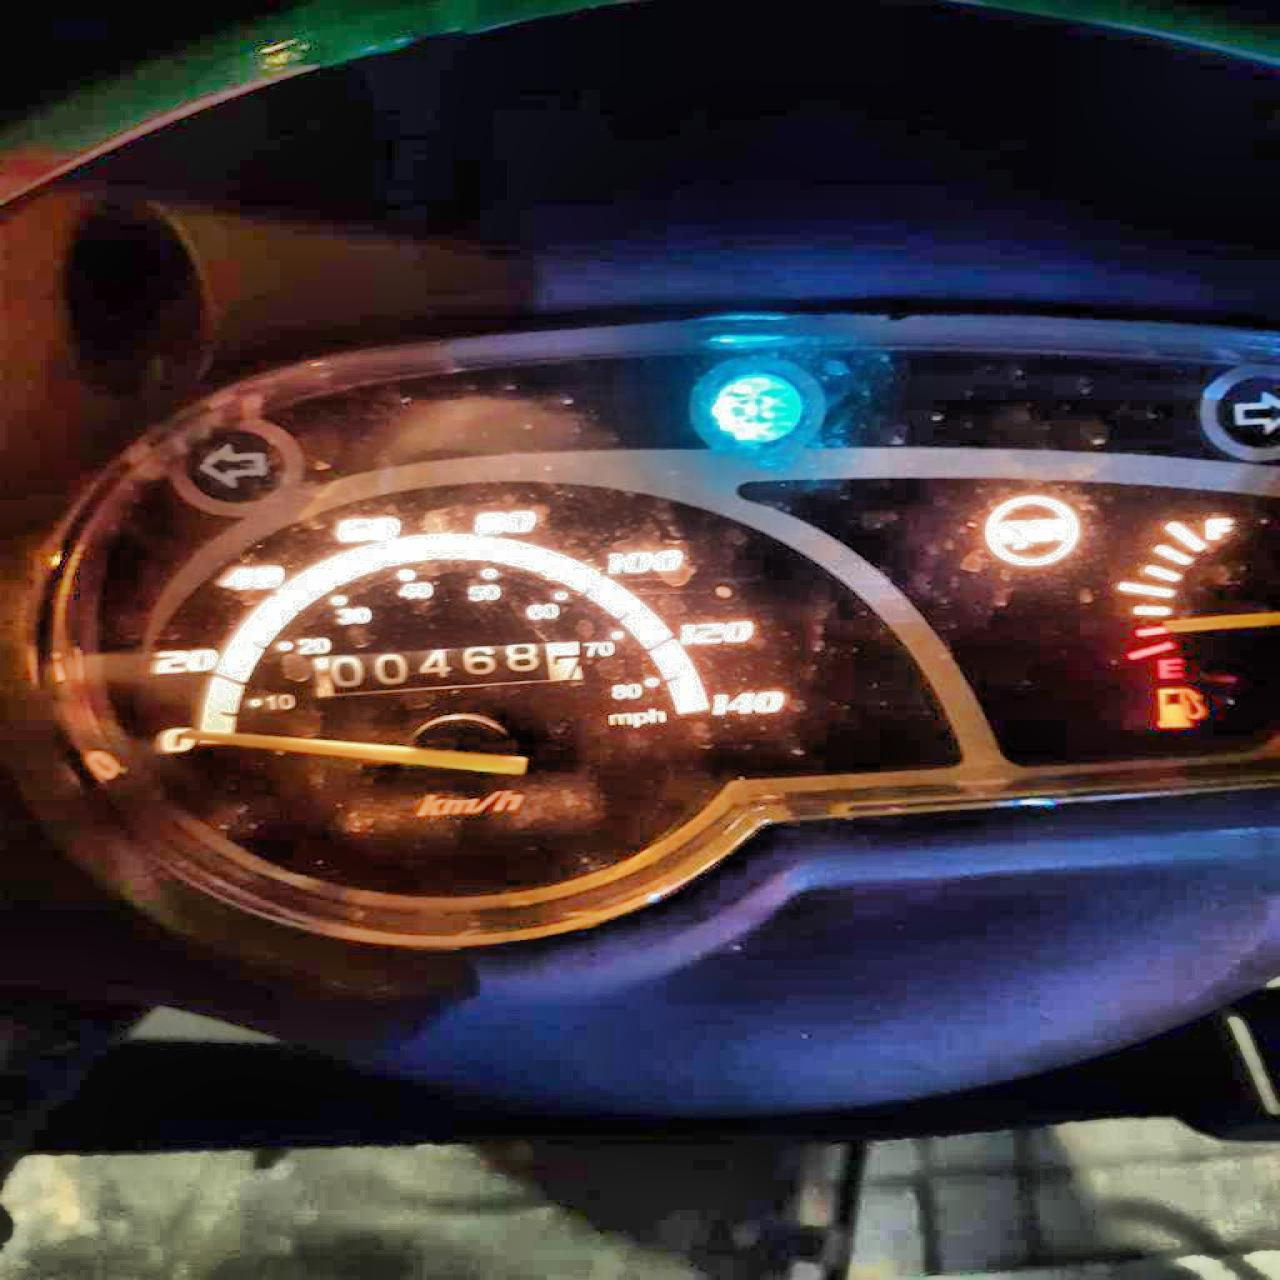0: (325, 654, 363, 688), (369, 651, 408, 685), (312, 638, 332, 653)
4: (415, 647, 451, 679)
6: (458, 644, 497, 675)
7: (549, 653, 581, 679)
8: (502, 641, 540, 673)
odometer: (307, 638, 585, 700)
